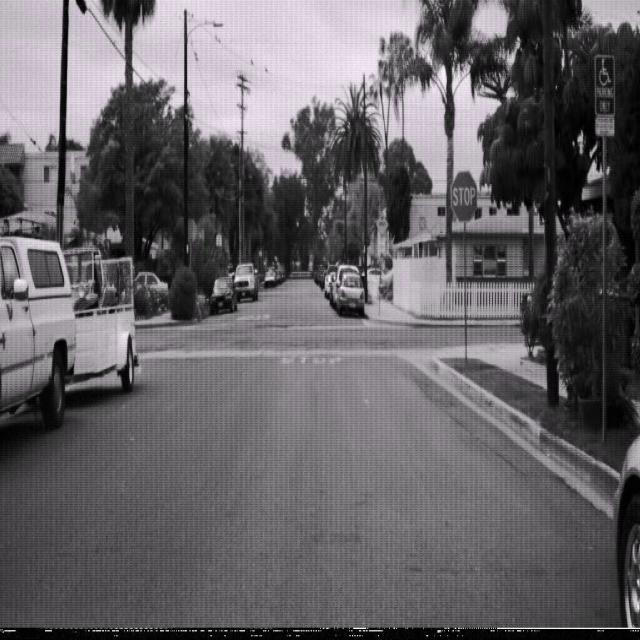stop_sign: (450, 169, 478, 222)
